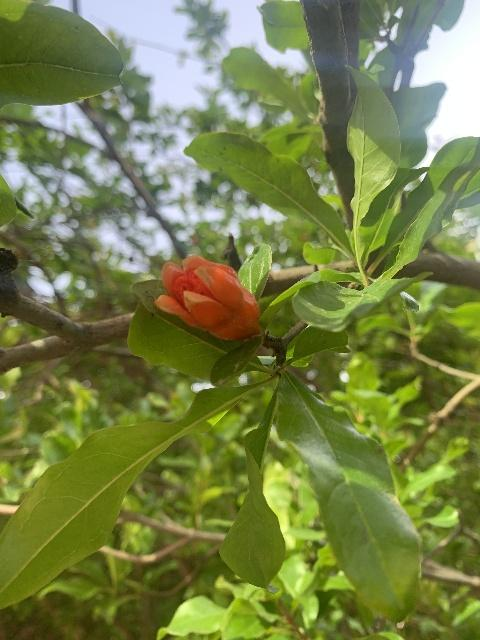flower: (153, 255, 260, 342)
